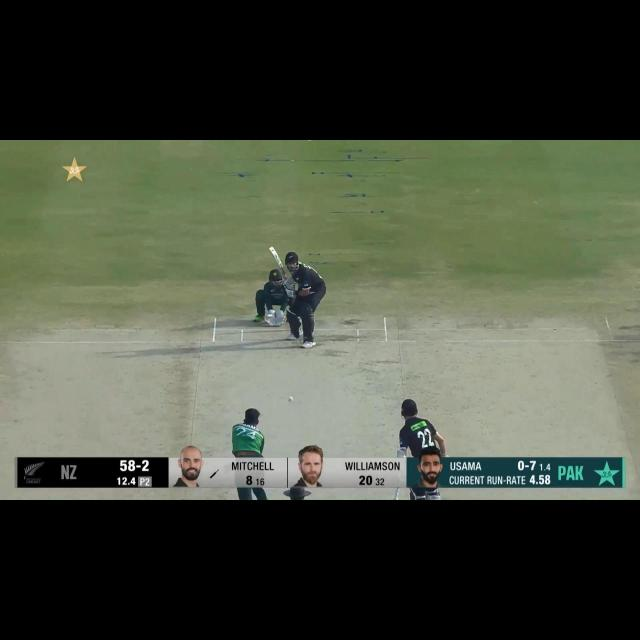bat: (268, 244, 288, 279)
toe: (267, 246, 278, 254)
